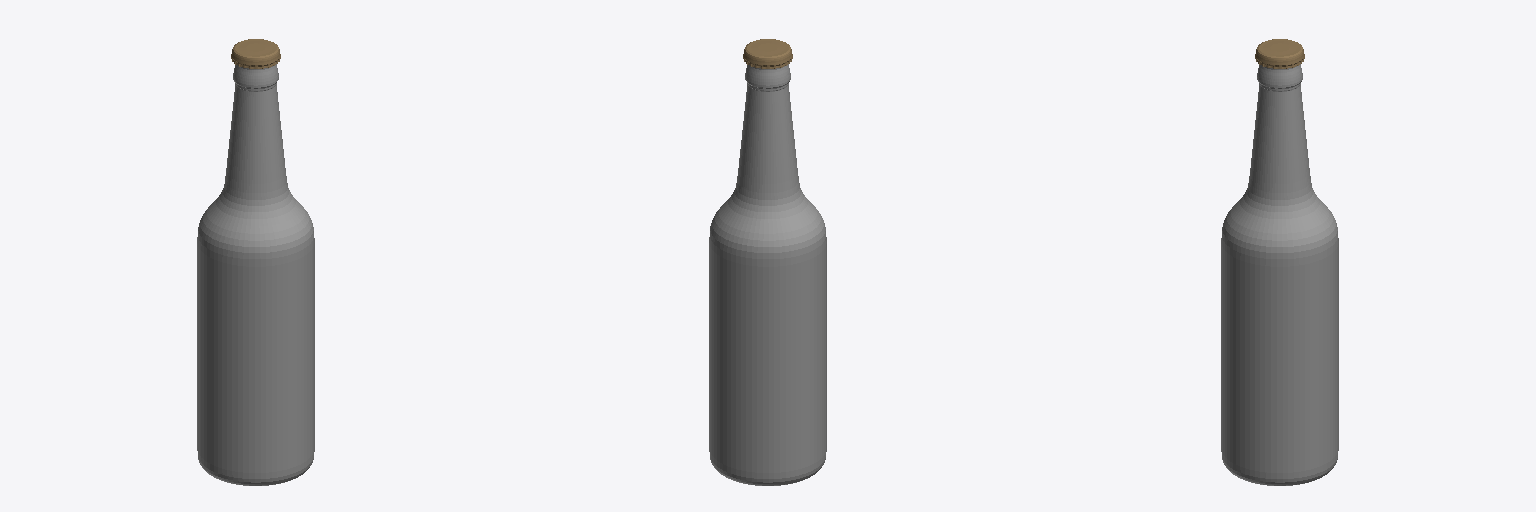
Rendered from beer.obj.
The picture shows the model from 3 angles: view 1: azimuth 30°, elevation 25°; view 2: azimuth 150°, elevation 25°; view 3: azimuth 270°, elevation 25°; orthographic projection.
Parts seen in each view (by area): view 1: bottle_bottle_mesh, cap; view 2: bottle_bottle_mesh, cap; view 3: bottle_bottle_mesh, cap.
Part boxes in pixels (bbox=[...]): bottle_bottle_mesh: bbox=[197, 64, 314, 485]; cap: bbox=[231, 39, 280, 68]; bottle_bottle_mesh: bbox=[709, 64, 826, 485]; cap: bbox=[743, 39, 792, 68]; bottle_bottle_mesh: bbox=[1221, 64, 1338, 485]; cap: bbox=[1255, 39, 1304, 68].
Size of the model in its own units: 5.09 by 19.98 by 5.09.